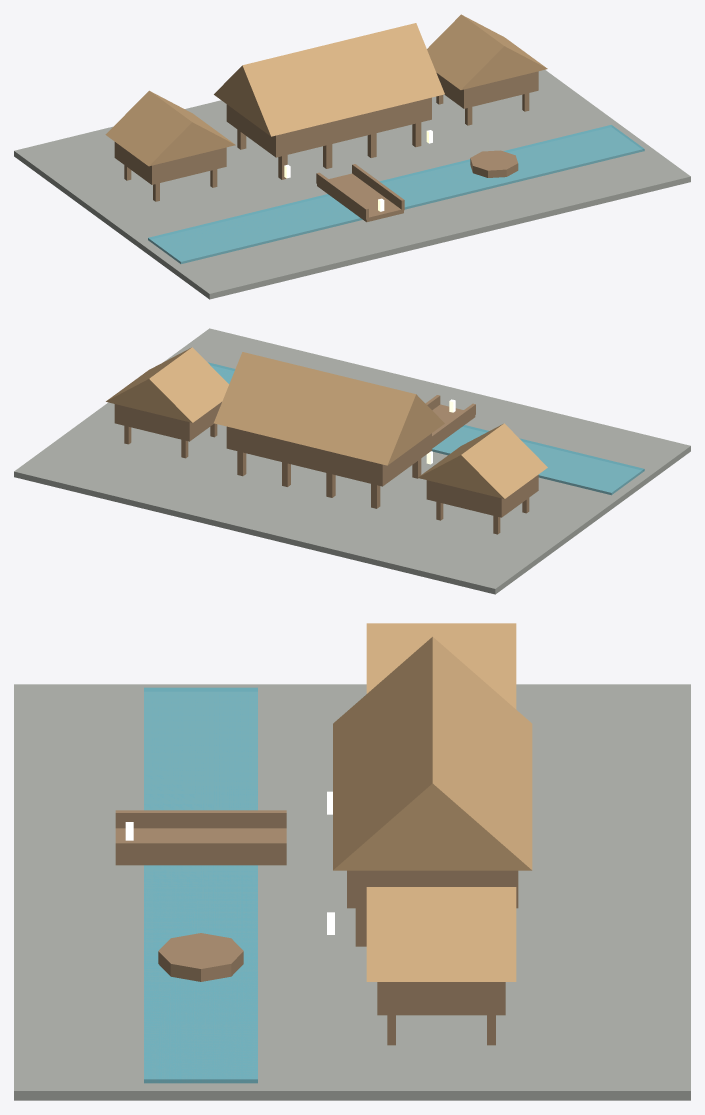
Rendered from lm_31_lang_cu_lan_stilt_village_cluster.glb.
3 views of the same model, one above another, from view 1: azimuth 30°, elevation 25°; view 2: azimuth 150°, elevation 25°; view 3: azimuth 270°, elevation 25° (orthographic). The views are drawn at different scales.
Visible parts, largest first — view 1: lm_31_lang_cu_lan_stilt_village_cluster; view 2: lm_31_lang_cu_lan_stilt_village_cluster; view 3: lm_31_lang_cu_lan_stilt_village_cluster.
Boxes of the visible parts, <box> form: lm_31_lang_cu_lan_stilt_village_cluster: <box>14,14,690,299</box>; lm_31_lang_cu_lan_stilt_village_cluster: <box>14,328,690,594</box>; lm_31_lang_cu_lan_stilt_village_cluster: <box>14,623,690,1100</box>.
Size of the model in its own units: 54 by 11.6 by 38.
